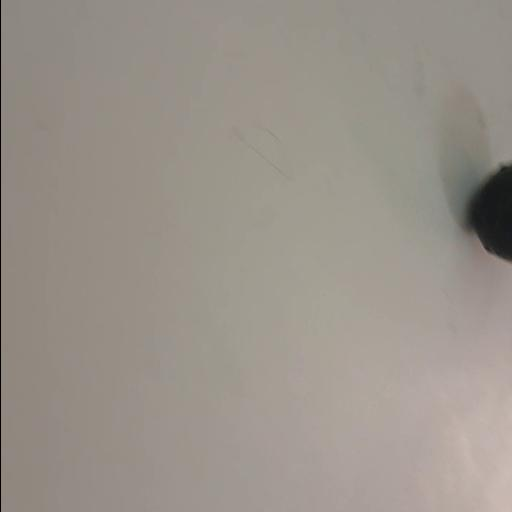dead: (470, 162, 512, 265)
